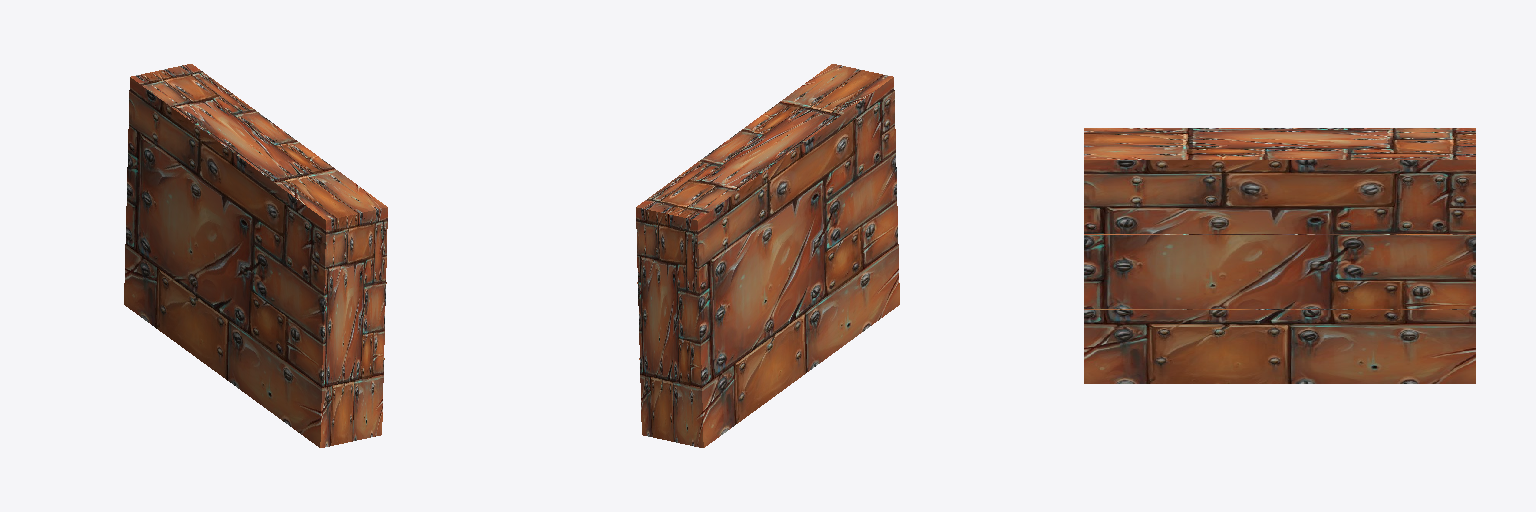
The picture shows the model from 3 angles: view 1: azimuth 30°, elevation 25°; view 2: azimuth 150°, elevation 25°; view 3: azimuth 270°, elevation 25°; orthographic projection.
Visible parts, largest first — view 1: Puerta_garaje001; view 2: Puerta_garaje001; view 3: Puerta_garaje001.
Part boxes in pixels (x1,y1,x2,y2): Puerta_garaje001: (124, 64, 387, 447); Puerta_garaje001: (636, 64, 899, 447); Puerta_garaje001: (1084, 128, 1475, 383).
Bounding box in the file's own units: 3.14 × 10.11 × 15.77.
1 materials, 1 textured.